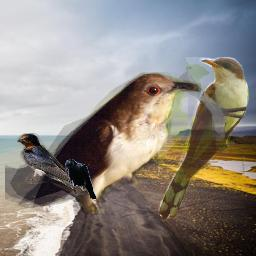Crow: (65, 159, 96, 201)
Cuckoo: (5, 72, 201, 215), (158, 57, 249, 222)
Swallow: (17, 133, 91, 197)
